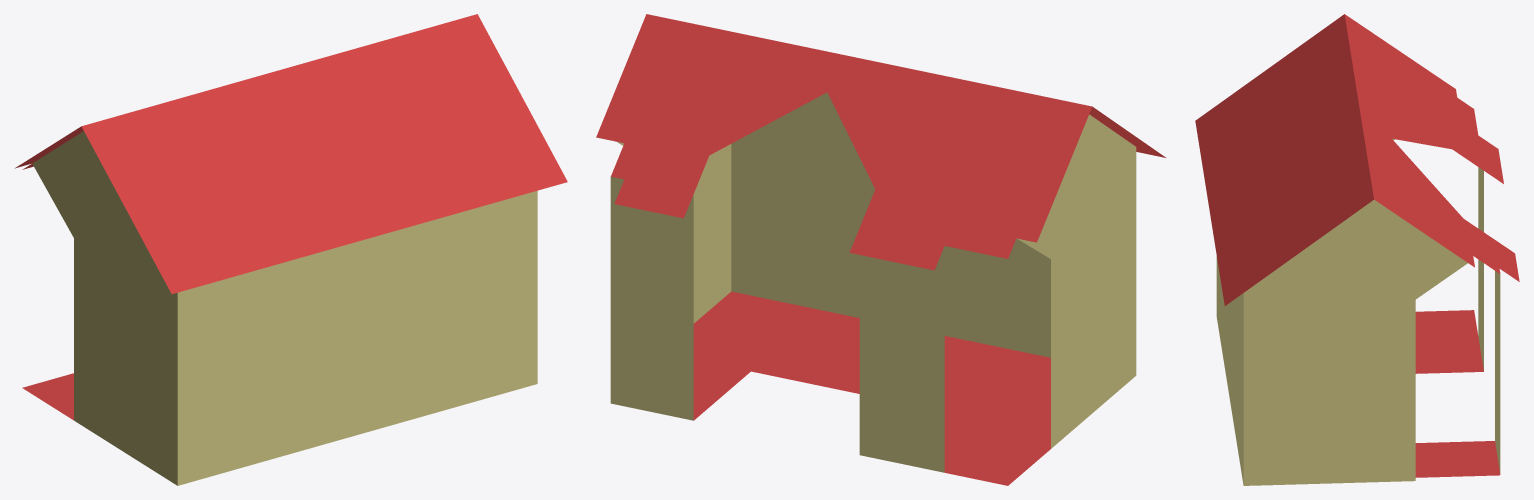
3 renders of one model, left to right at view 1: azimuth 30°, elevation 25°; view 2: azimuth 150°, elevation 25°; view 3: azimuth 270°, elevation 25°, orthographic. The views are drawn at different scales.
Bounding box in the file's own units: 16.97 × 12.05 × 11.94.
